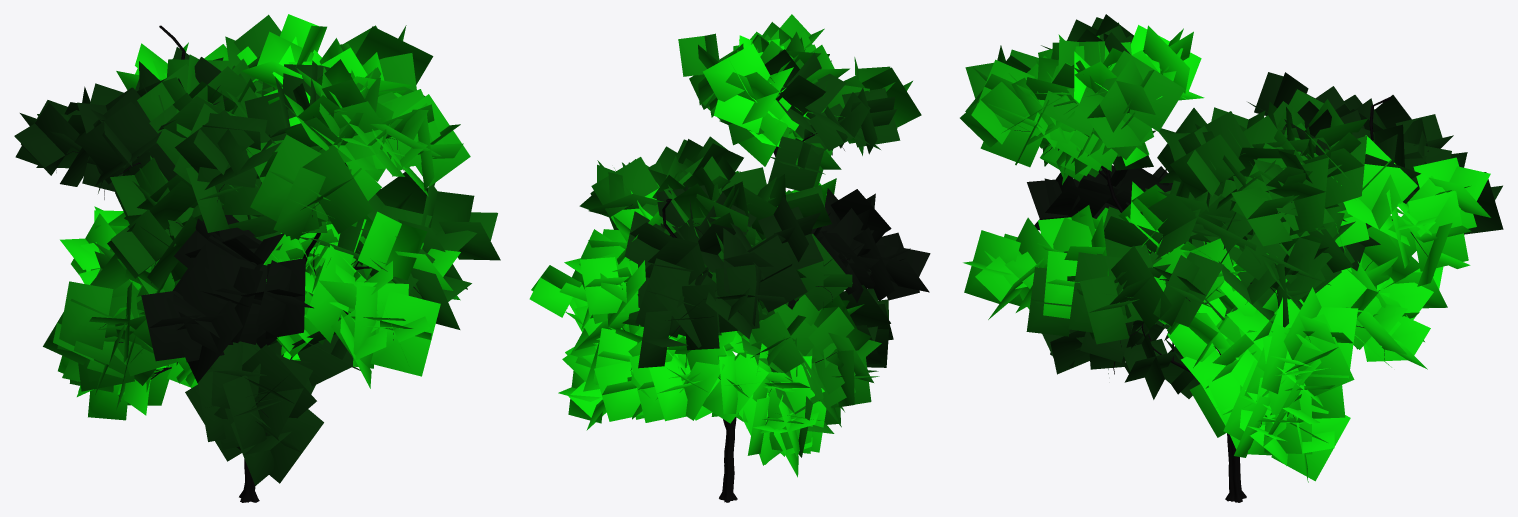
File: Euro_Beech_6.fbx
The picture shows the model from 3 angles, left to right: view 1: azimuth 30°, elevation 25°; view 2: azimuth 150°, elevation 25°; view 3: azimuth 270°, elevation 25°; orthographic projection. The views are drawn at different scales.
Visible parts, largest first — view 1: Euro_Beech_6; view 2: Euro_Beech_6; view 3: Euro_Beech_6.
Part boxes in pixels (<box>): Euro_Beech_6: <box>14,14,500,502</box>; Euro_Beech_6: <box>529,14,930,502</box>; Euro_Beech_6: <box>960,14,1503,502</box>.
Size of the model in its own units: 551 by 715 by 733.
